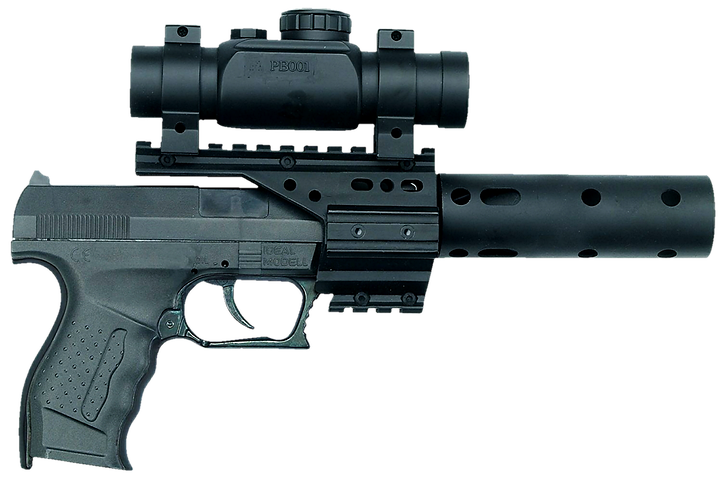gun: (3, 138, 722, 460)
